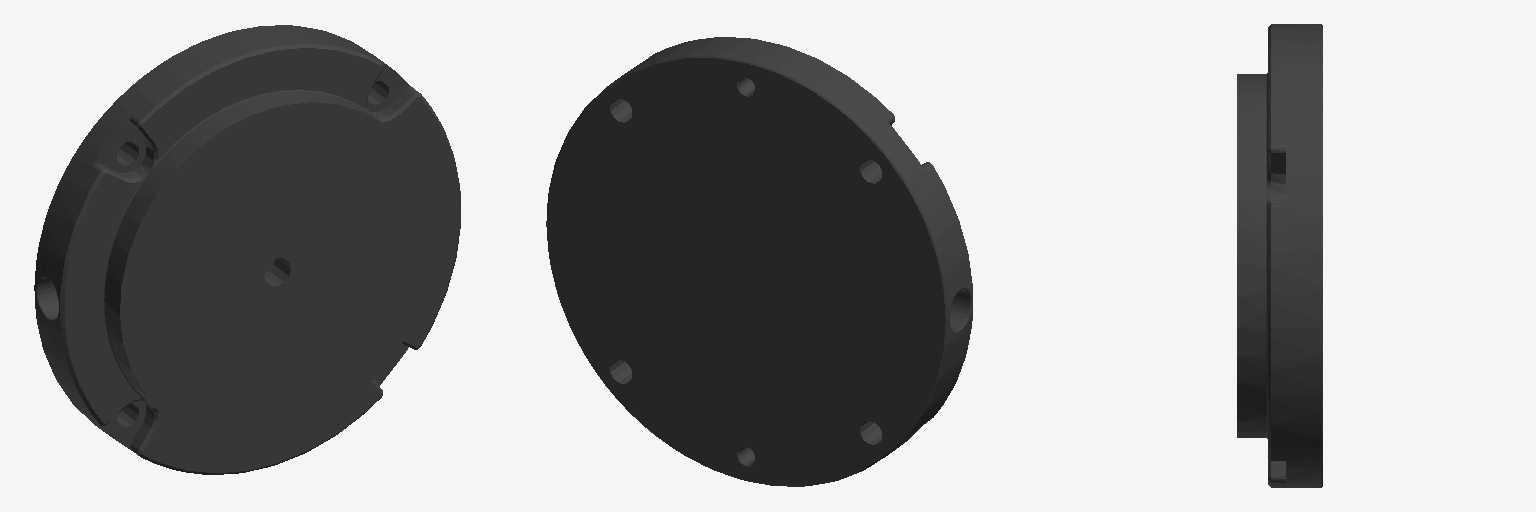
3 views of the same model, side by side, from view 1: azimuth 30°, elevation 25°; view 2: azimuth 150°, elevation 25°; view 3: azimuth 270°, elevation 25° (orthographic).
Visible parts, largest first — view 1: base_link; view 2: base_link; view 3: base_link.
Boxes of the visible parts, box(x1,y1,x2,y2) form: base_link: box(34, 25, 460, 474); base_link: box(546, 37, 972, 486); base_link: box(1237, 24, 1322, 487).
Size of the model in its own units: 0.15 by 0.15 by 0.028.